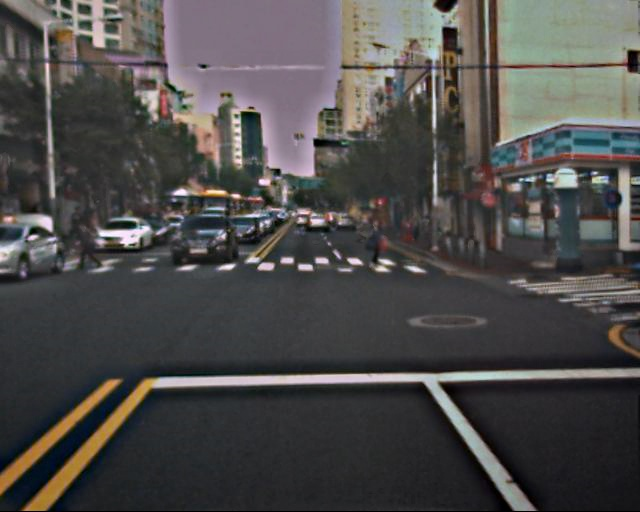person: (362, 219, 384, 273), (75, 220, 95, 269)
